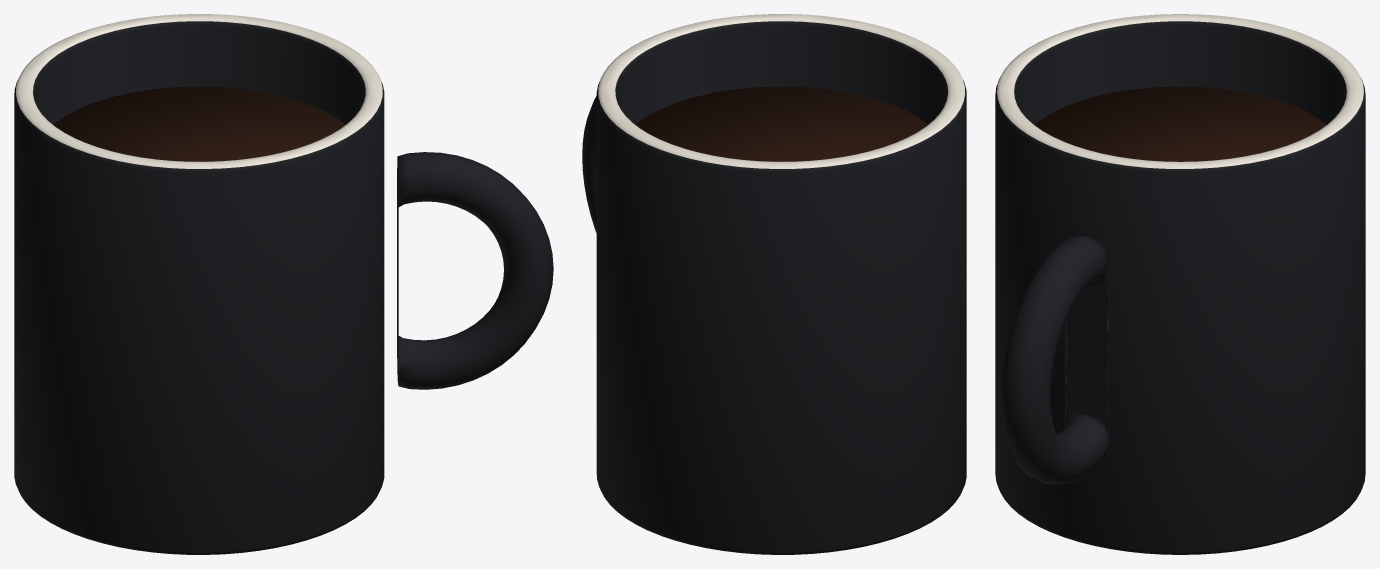
The model's file is mug_black.glb.
3 views of the same model, side by side, from view 1: azimuth 30°, elevation 25°; view 2: azimuth 150°, elevation 25°; view 3: azimuth 270°, elevation 25° (orthographic).
Visible parts, largest first — view 1: mug_black; view 2: mug_black; view 3: mug_black.
Part boxes in pixels (x1,y1,x2,y2): mug_black: (14,14,553,554); mug_black: (582,14,966,554); mug_black: (995,14,1365,554).
Bounding box in the file's own units: 0.111 × 0.095 × 0.082.
